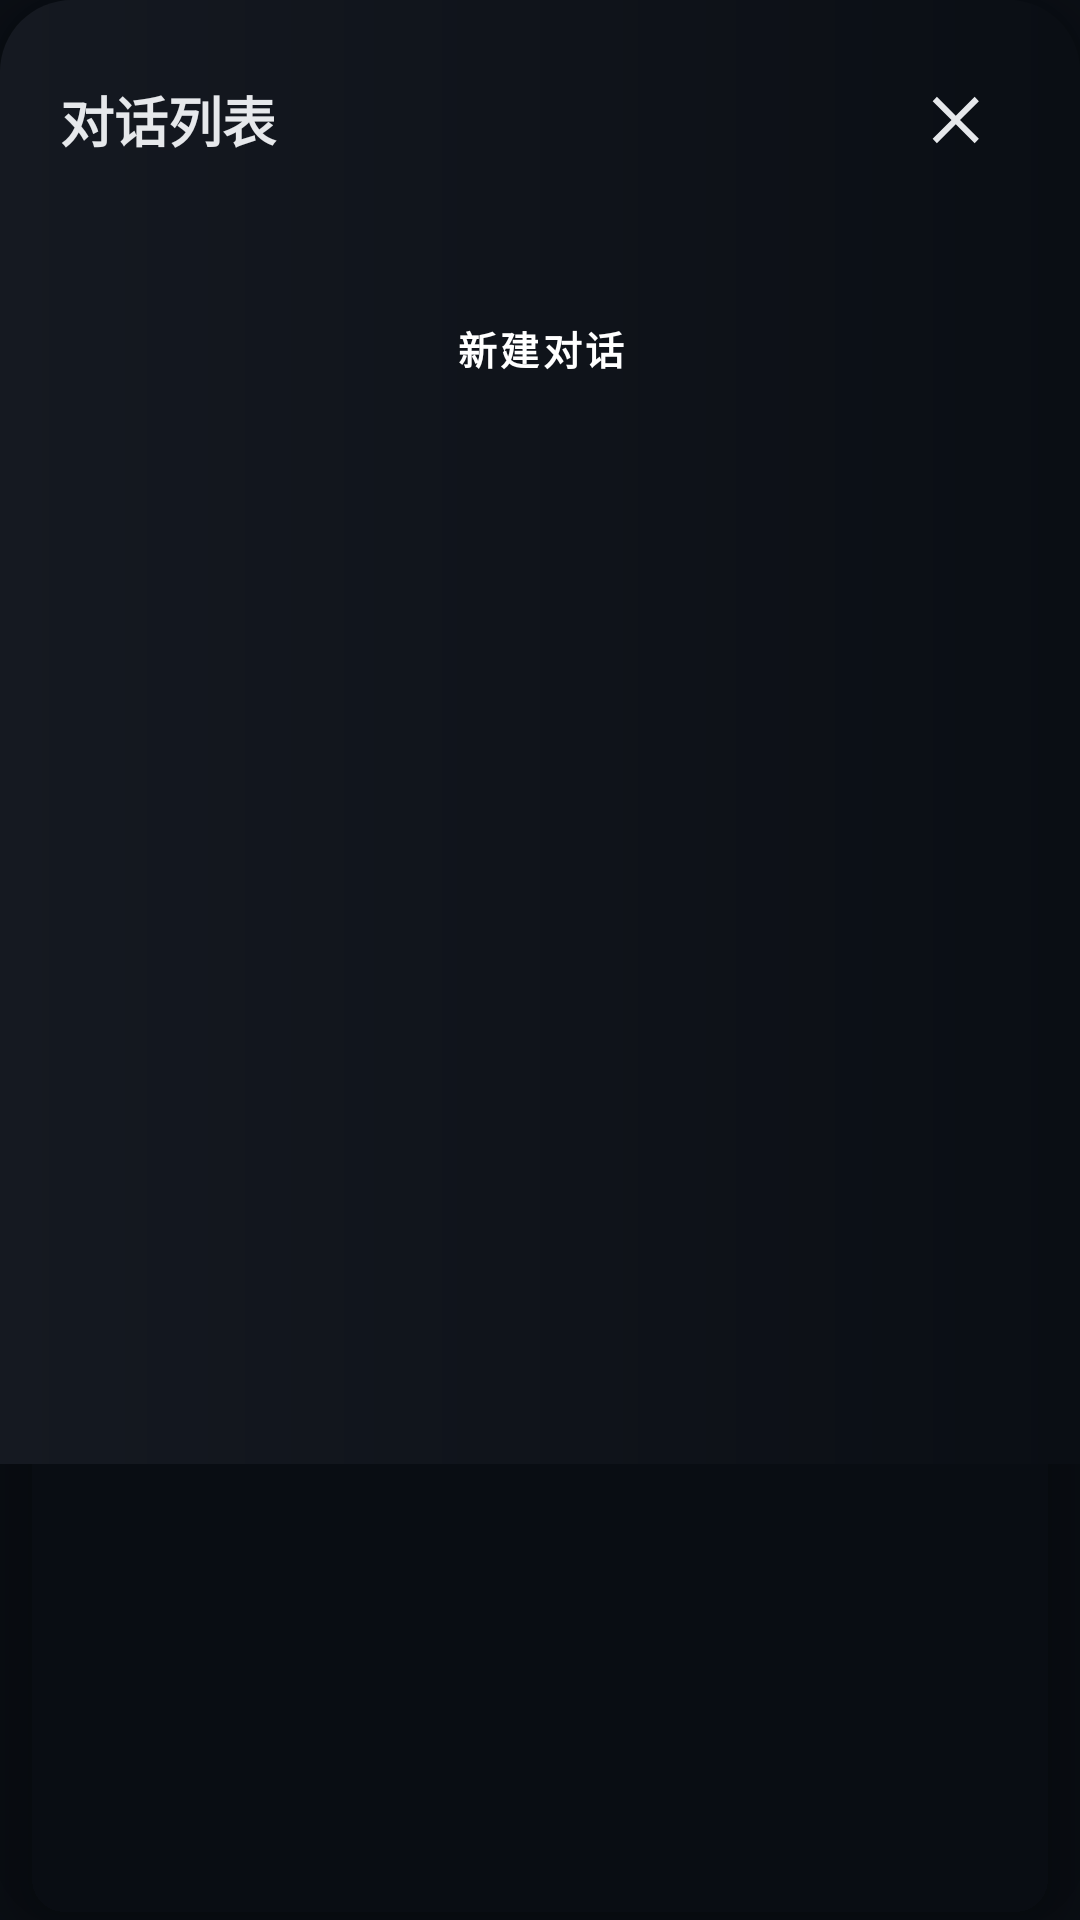

Icons on this 1080 × 1920 Android screen, each with its box as [x1=x1, y1=y1, x2=x2, y2=y2]:
关闭: [x1=933, y1=97, x2=979, y2=143]
